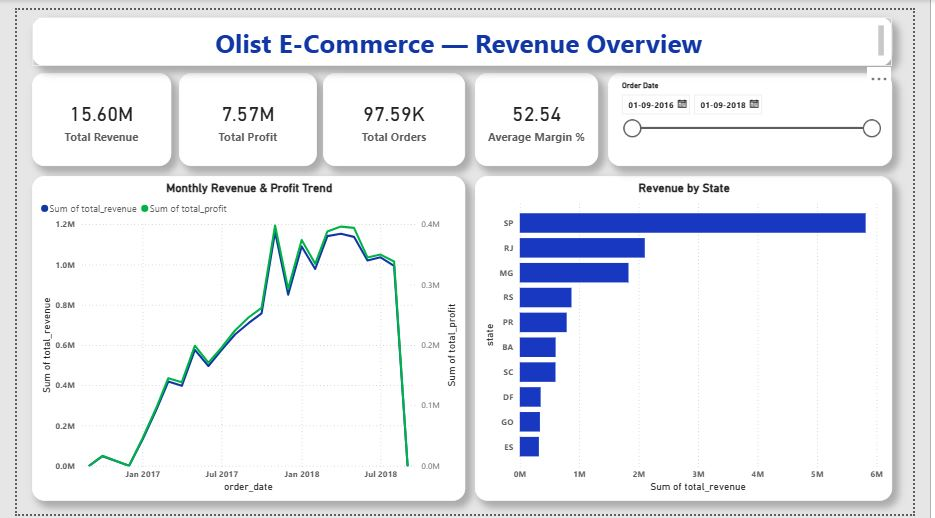

Layout of this report page (visuals, bound fields, positions):
{"tool":"powerbi","page":{"name":"Revenue Overview","canvas":[1280,720],"ordinal":0},"visuals":[{"type":"card","fields":{"Values":["Sum(master.revenue)"]},"box":[21.4,90,198.6,132.9],"z":0},{"type":"card","fields":{"Values":["Sum(master.profit)"]},"box":[231.4,90,197.1,132.9],"z":1000},{"type":"card","fields":{"Values":["CountNonNull(master.order_id)"]},"box":[437.1,90,202.9,132.9],"z":2000},{"type":"card","fields":{"Values":["Avg(master.margin_pct)"]},"box":[654.3,90,175.7,132.9],"z":3000},{"type":"lineChart","title":"Monthly Revenue & Profit Trend","fields":{"Y":["Sum(monthly_revenue.total_revenue)"],"Y2":["Sum(monthly_revenue.total_profit)"],"Category":["monthly_revenue.order_date"]},"box":[21.4,237.1,618.6,464.3],"z":4000},{"type":"clusteredBarChart","title":"Revenue by State","fields":{"Category":["aov_by_state.state"],"Y":["Sum(aov_by_state.total_revenue)"]},"box":[654.3,237.1,595.7,464.3],"z":5000},{"type":"slicer","fields":{"Values":["monthly_revenue.order_date"]},"box":[844.3,90,405.7,132.9],"z":6000},{"type":"textbox","box":[21.4,10,1228.6,70],"z":7000}]}

Visuals, with their boxes in screenshot pixels (x1, y1, x2, y2), scaled from the page's 1280x720 canvas onto the 935x518 screenshot:
card - Sum(master.revenue): bbox=(16, 65, 161, 160)
card - Sum(master.profit): bbox=(169, 65, 313, 160)
card - CountNonNull(master.order_id): bbox=(319, 65, 468, 160)
card - Avg(master.margin_pct): bbox=(478, 65, 606, 160)
"Monthly Revenue & Profit Trend" lineChart: bbox=(16, 171, 468, 505)
"Revenue by State" clusteredBarChart: bbox=(478, 171, 913, 505)
slicer - monthly_revenue.order_date: bbox=(617, 65, 913, 160)
textbox: bbox=(16, 7, 913, 58)
